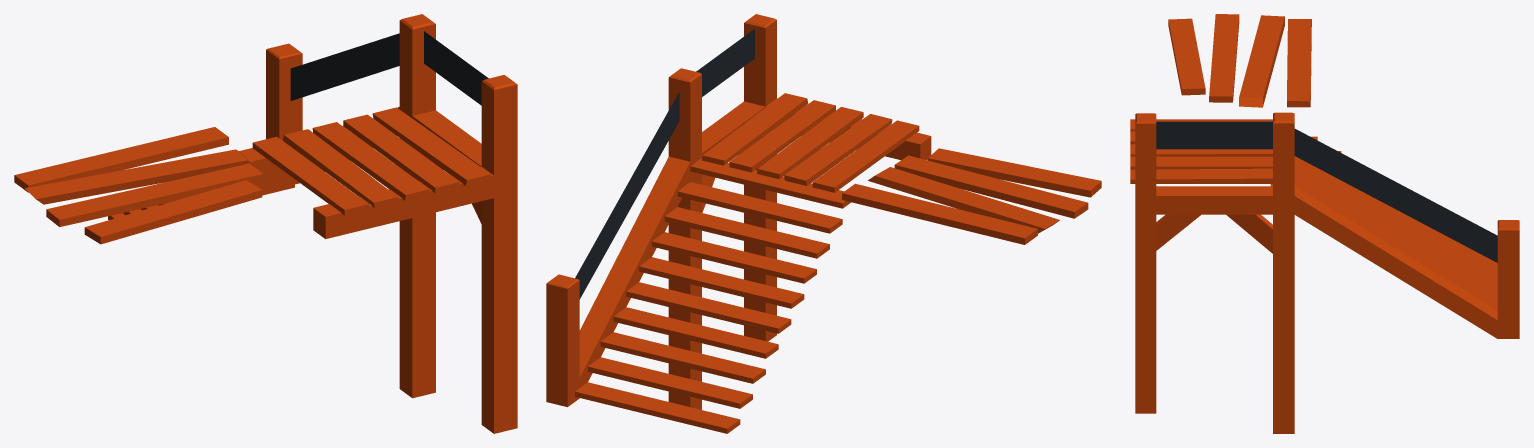
The model's file is stairs.obj.
3 renders of one model, left to right at view 1: azimuth 30°, elevation 25°; view 2: azimuth 150°, elevation 25°; view 3: azimuth 270°, elevation 25°, orthographic. The views are drawn at different scales.
Parts seen in each view (by area): view 1: Wood, Railing; view 2: Wood, Railing; view 3: Wood, Railing.
Part boxes in pixels (x1,y1,x2,y2): Wood: (14, 14, 517, 433); Railing: (290, 31, 488, 105); Wood: (546, 14, 1101, 433); Railing: (575, 29, 754, 299); Wood: (1130, 14, 1519, 433); Railing: (1156, 121, 1497, 262).
Size of the model in its own units: 4.96 by 4.28 by 4.84.
